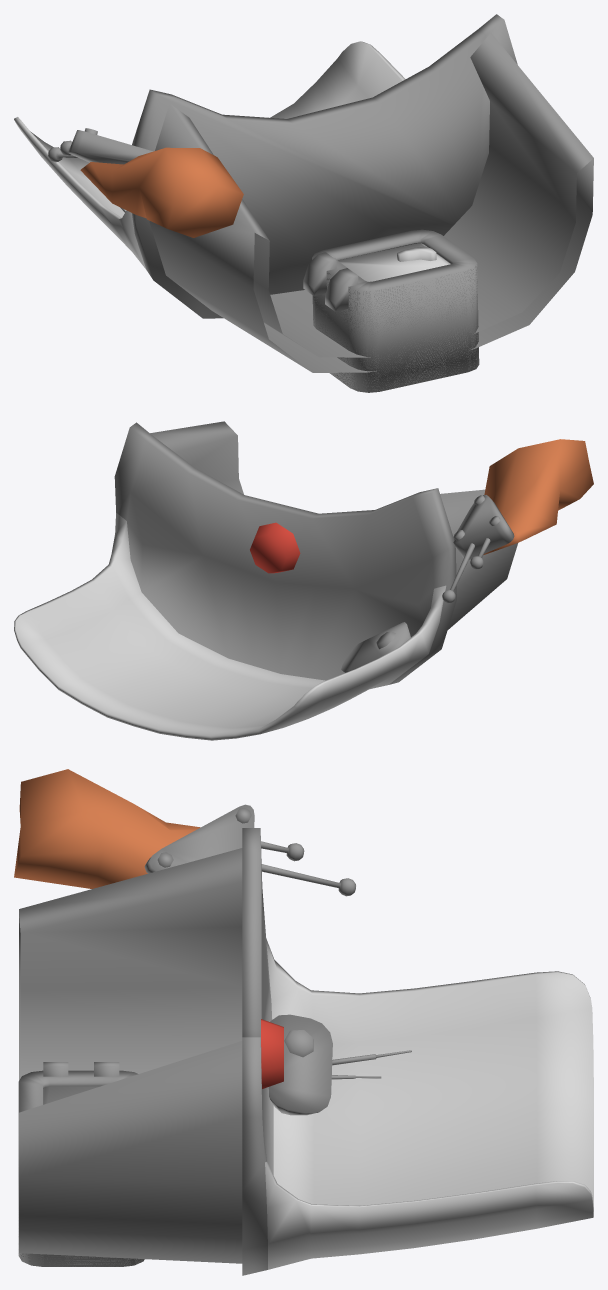
File: Console.fbx
The picture shows the model from 3 angles, top to bottom: view 1: azimuth 30°, elevation 25°; view 2: azimuth 150°, elevation 25°; view 3: azimuth 270°, elevation 25°; orthographic projection. The views are drawn at different scales.
Visible parts, largest first — view 1: Console, Console.002, Electricitydoor; view 2: Console, Console.002, Console.001; view 3: Console, Console.002, Console.001.
Boxes of the visible parts, <box> form: Console: <box>14,14,593,392</box>; Console.002: <box>80,147,243,237</box>; Electricitydoor: <box>338,243,450,281</box>; Console: <box>14,421,517,740</box>; Console.002: <box>483,439,593,554</box>; Console.001: <box>250,522,300,573</box>; Console: <box>18,804,593,1275</box>; Console.002: <box>14,769,200,888</box>; Console.001: <box>261,1019,283,1088</box>.
Size of the model in its own units: 2.54 by 1.49 by 2.4.
